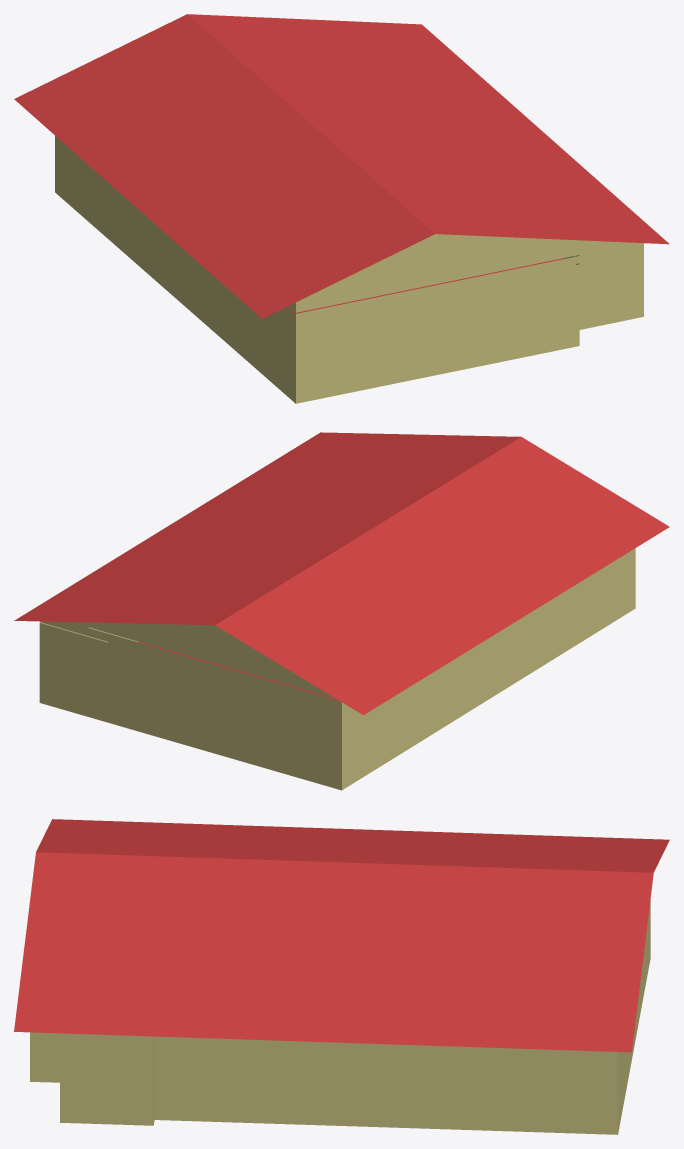
The picture shows the model from 3 angles, top to bottom: view 1: azimuth 30°, elevation 25°; view 2: azimuth 150°, elevation 25°; view 3: azimuth 270°, elevation 25°; orthographic projection. The views are drawn at different scales.
Size of the model in its own units: 42.56 by 52.38 by 13.69.
